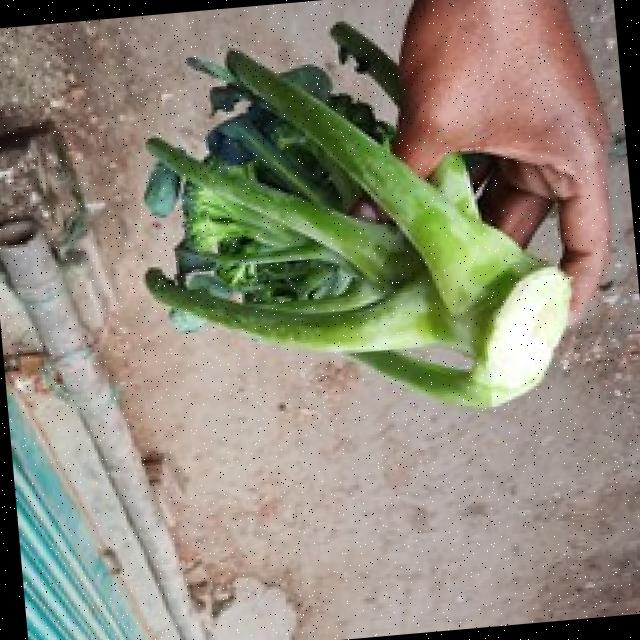Broccoli: (144, 51, 569, 406), (144, 51, 567, 407)
